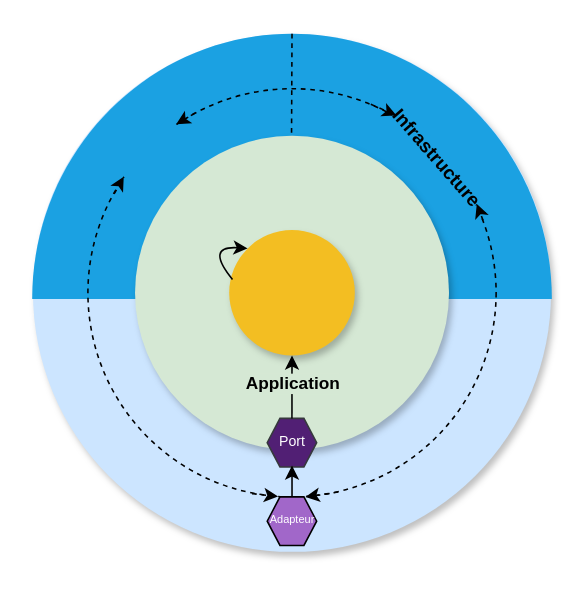
The diagram is 587 pixels wide and 589 high, and some of its shapes have lost their labels. The centre of each missing label's shape, as x and y in pixels:
Domain: the point at 292,294
Tests: the point at 149,149
